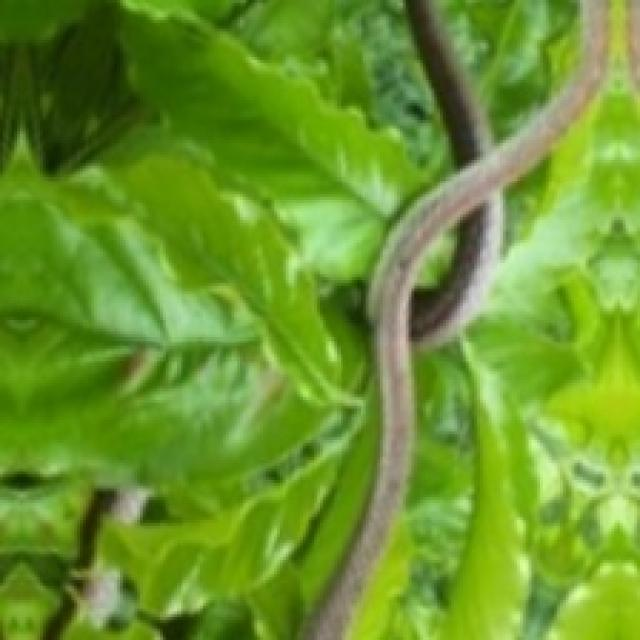paradise tree snake: (303, 0, 606, 637)
